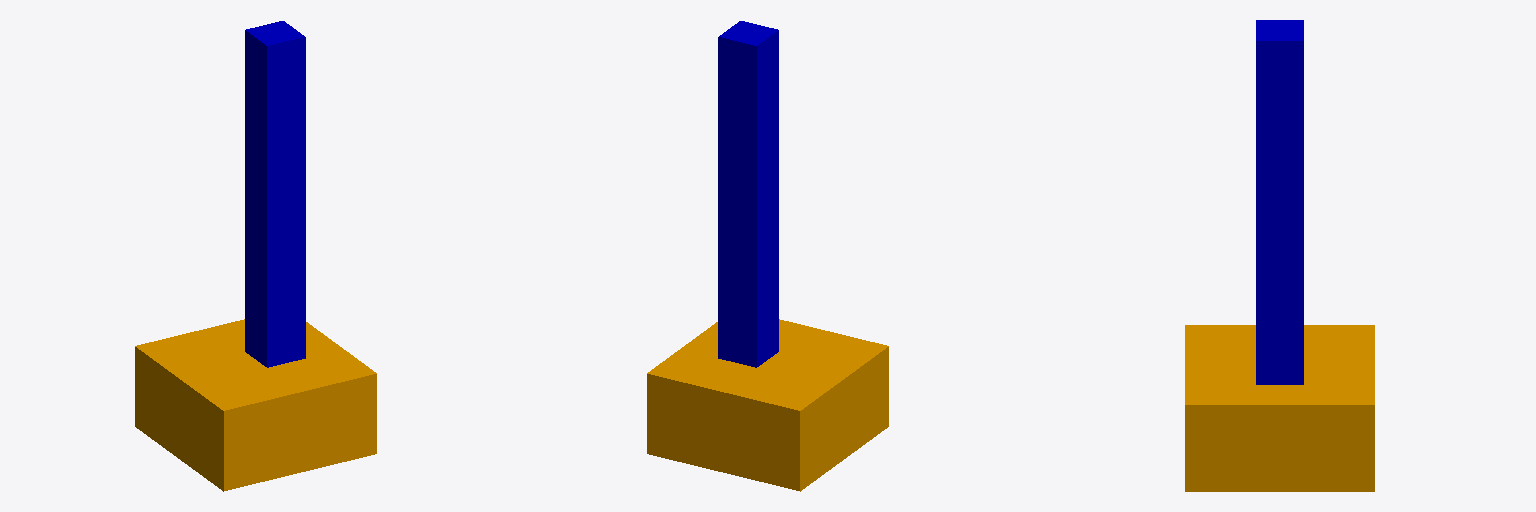
The robot description file, URDF, robot "myrobot":
<?xml version="1.0"?>

<robot name="myrobot">

    <link name="base_link">

        <inertial>
            <origin xyz="0 0 0.1" />
            <mass value="10000.0" />
            <inertia ixx="1.0" ixy="0.0" ixz="0.0"
            iyy="1.0" iyz="0.0" izz="1.0" />

        </inertial>
        <visual>        
            <origin xyz="0 0 0.1" />
            <geometry>
                <box size="0.4 0.4 0.2" />
            </geometry>
        </visual>

        <collision>
            <origin xyz="0 0 0.1" />
            <geometry>
             <box size="0.4 0.4 0.2" />
            </geometry>
        </collision>

    </link>

    <!--Segundo link del robot: body_link-->

    <!--<material>: Asigna un color a un link del robot.-->
    <material name="blue">
        <color rgba="0 0 0.8 1" />
    </material>

    <link name="body_link">

        <inertial>
            <origin rpy="0 0 0" xyz="0 0 0.5" />
            <mass value="1.0" />
            <inertia ixx="1.0" ixy="0.0" ixz="0.0"
            iyy="0.0" iyz="0.0" izz="1.0" />

        </inertial>
        <visual>        
            <origin rpy="0 0 0" xyz="0 0 0.5" />
            <geometry>
                <box size="0.1 0.1 0.8" />
            </geometry>
            <material name="blue"/>
        </visual>

        <collision>
            <origin rpy="0 0 0" xyz="0 0 0.5" />
            <geometry>
             <box size="0.1 0.1 0.8" />
            </geometry>
        </collision>

    </link>

    <!--Joint con 2 links (base_link y body_link).-->

    <joint name="base_to_body" type="revolute">
        <parent link="base_link" />
        <child link="body_link" />
        <dynamics damping="0.0" friction="0.00001" />
        <origin xyz="0.05 0 0.1" />

        <!--Solo permite rotación sobre el eje X.-->
        <axis xyz="1 0 0" />

        <limit lower="-0.14" upper="0.14" effort="10.0" velocity="0.5" />
    </joint>

</robot>

--- Render facts (derived) ---
The picture shows the robot from 3 angles, left to right: view 1: azimuth 30°, elevation 25°; view 2: azimuth 150°, elevation 25°; view 3: azimuth 270°, elevation 25°; orthographic projection.
Model myrobot with 2 links and 1 joints (1 revolute), rooted at base_link, posed all joints at 0.
Links seen in each view (by area): view 1: base_link, body_link; view 2: base_link, body_link; view 3: base_link, body_link.
Link boxes in pixels (x1=…): base_link: x1=135, y1=319, x2=376, y2=491; body_link: x1=245, y1=21, x2=305, y2=367; base_link: x1=647, y1=319, x2=888, y2=491; body_link: x1=718, y1=21, x2=778, y2=367; base_link: x1=1185, y1=325, x2=1374, y2=491; body_link: x1=1256, y1=20, x2=1303, y2=384.
Size in the robot's own frame: 0.4 by 0.4 by 1 metres.
Geometry: primitives only (box / cylinder / sphere), no mesh files.